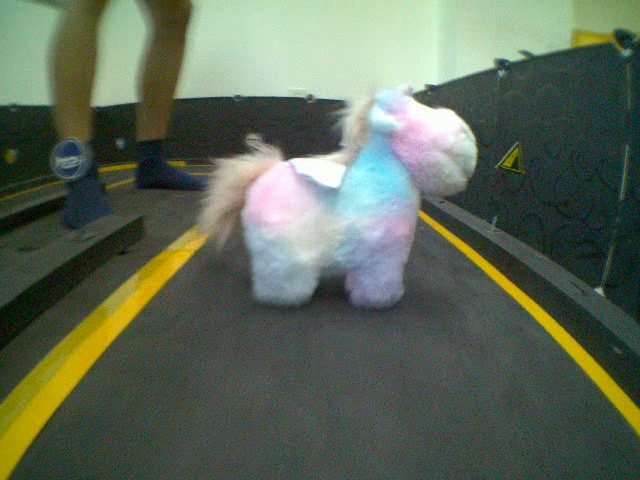unicorn: (198, 86, 481, 313)
